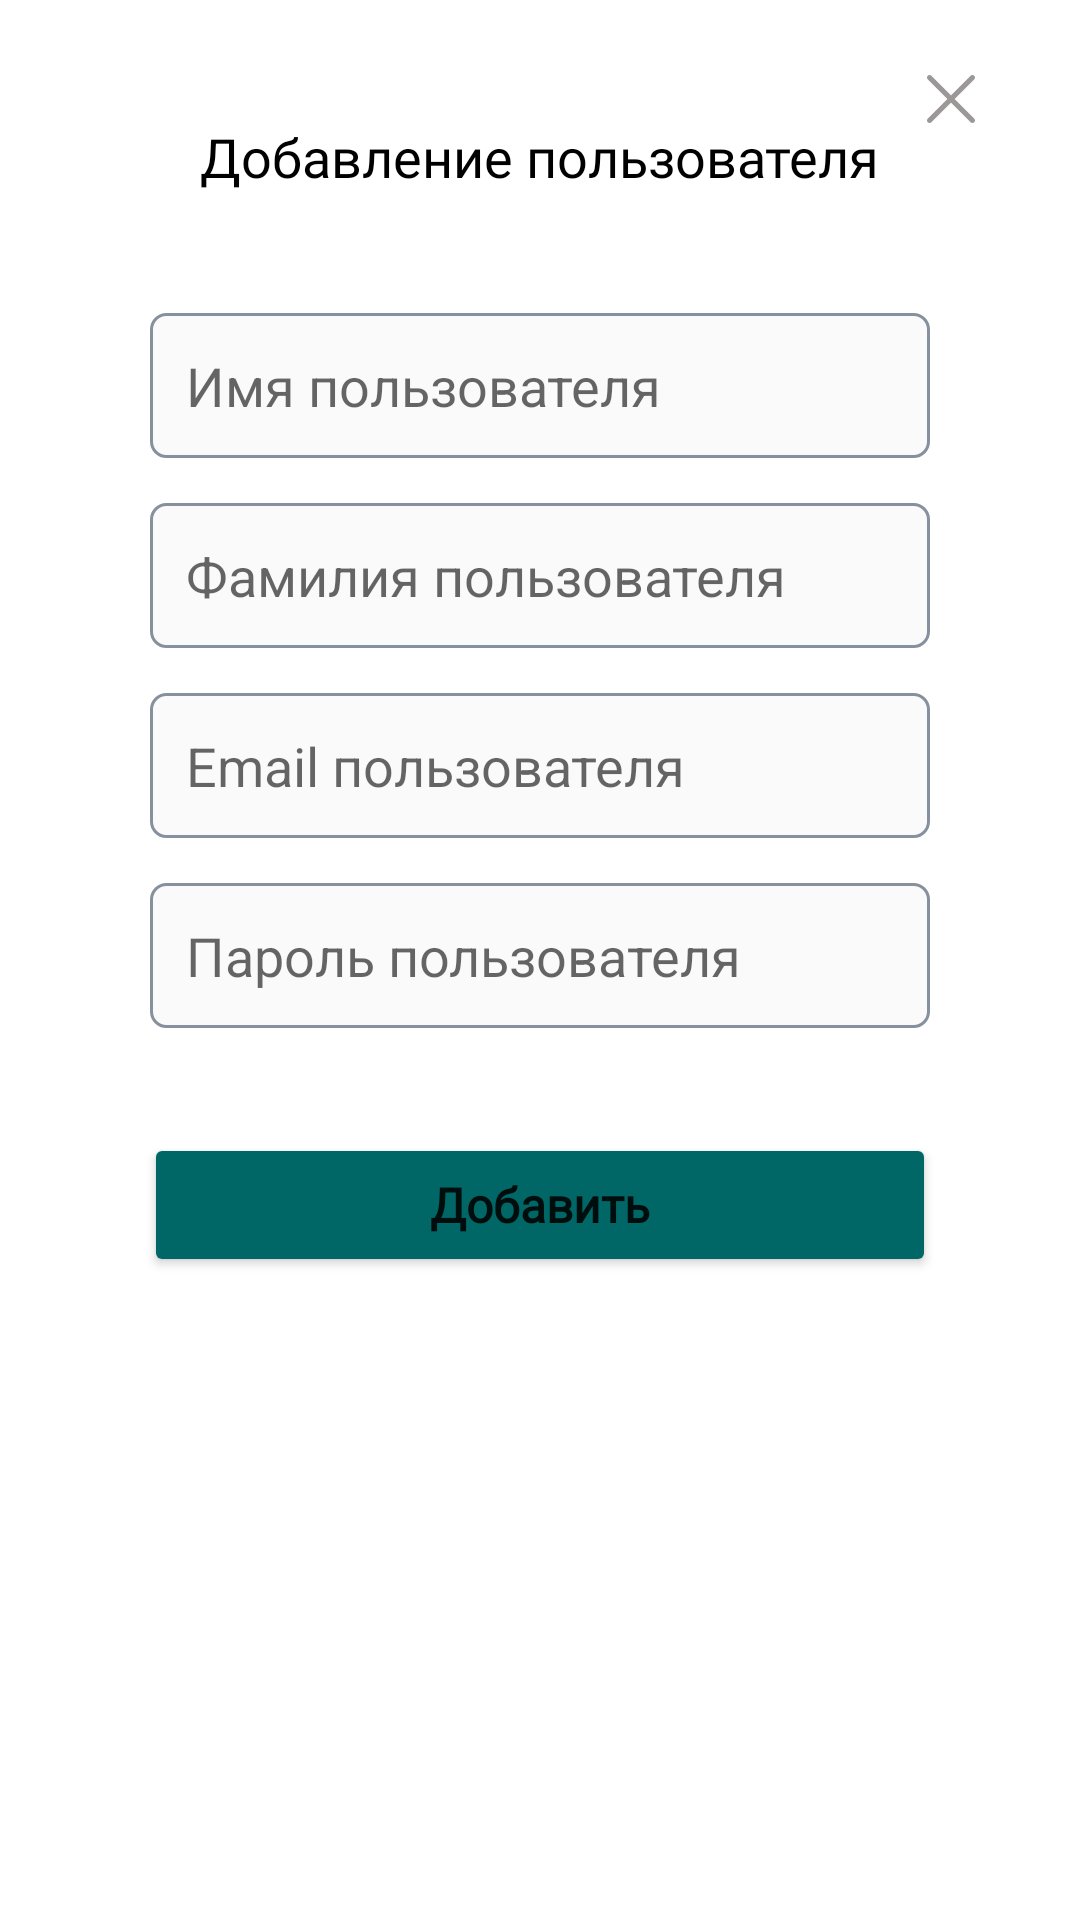

Point at icon controls on the screen. Image size 1080x1920, points as (x,y).
close: (951,99)
